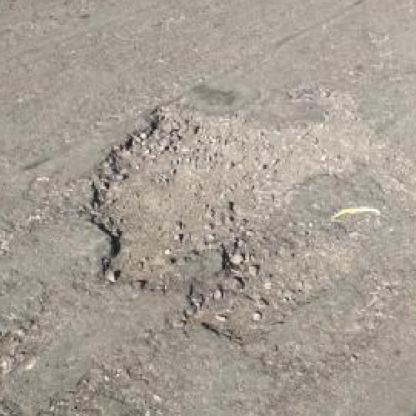pothole: (82, 87, 411, 346)
